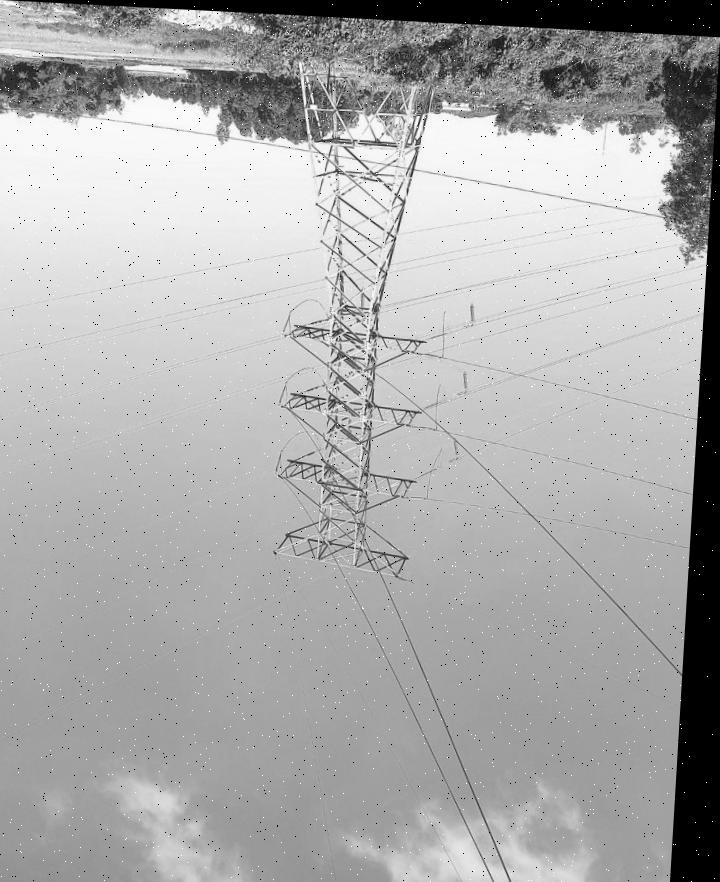tower: (265, 64, 445, 582)
